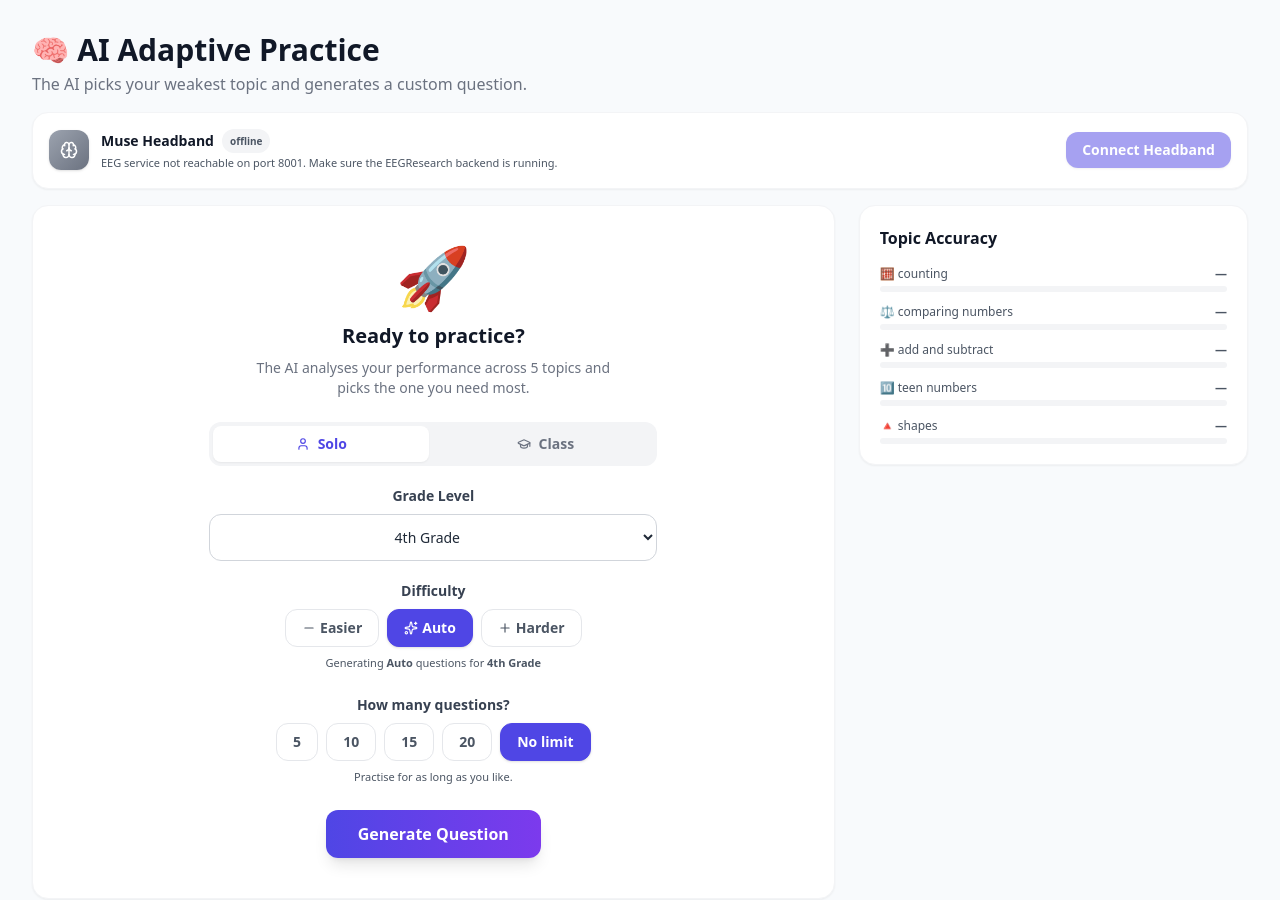
Test: serves a class with no grade the student's saved grade, not the solo pick
The width and height of the screenshot is (1280, 900).
Select "2nd Grade" in the dropdown showing "4th Grade" at (433, 537), box x1=209 y1=514 x2=657 y2=560
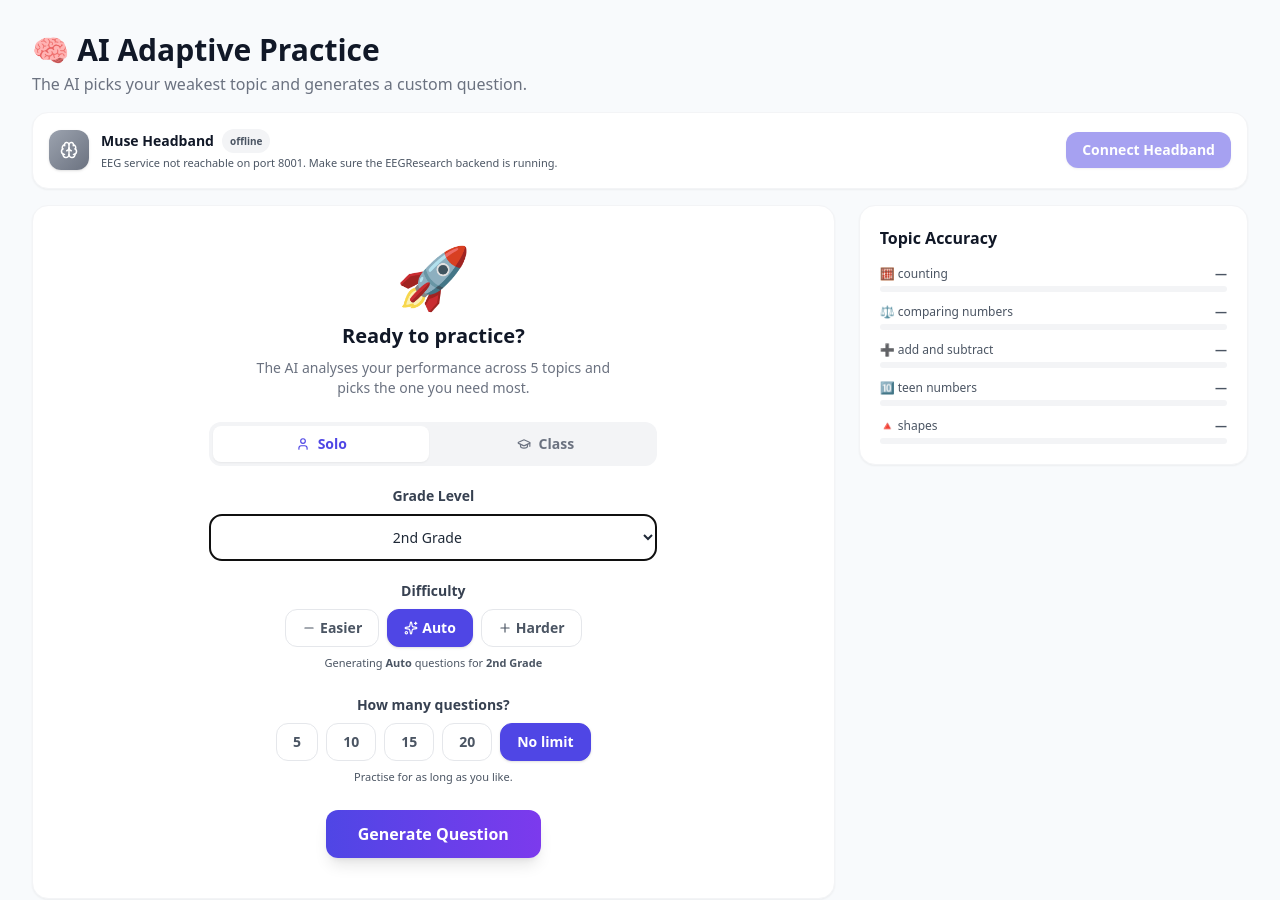
Click the button "Class" at (545, 444), box x1=437 y1=426 x2=653 y2=462
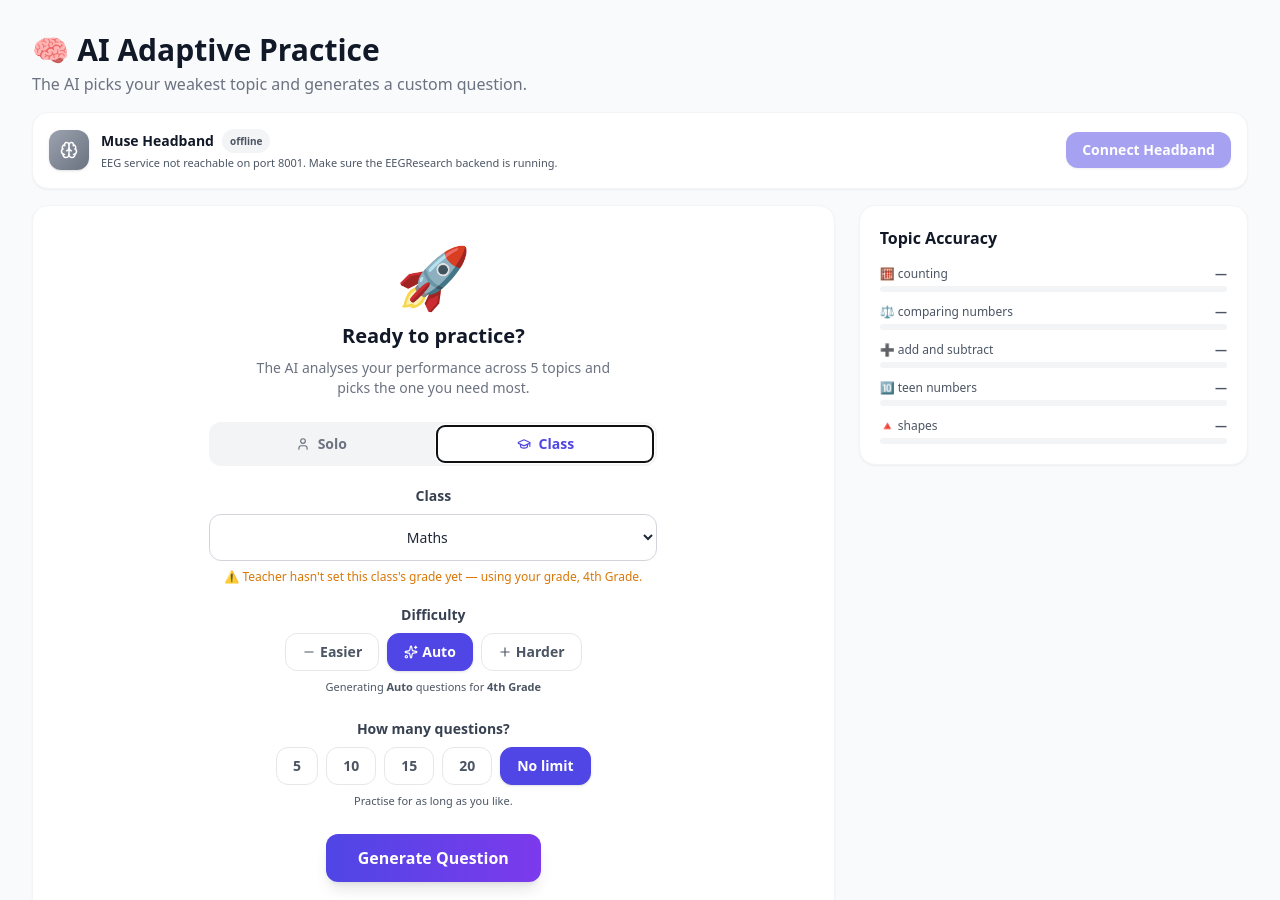
Expected: the text "using your grade, 4th Grade" is shown, x1=481 y1=568 x2=642 y2=584
Expected: the text "Generating Auto questions for 4th Grade" is shown, x1=326 y1=678 x2=541 y2=694
